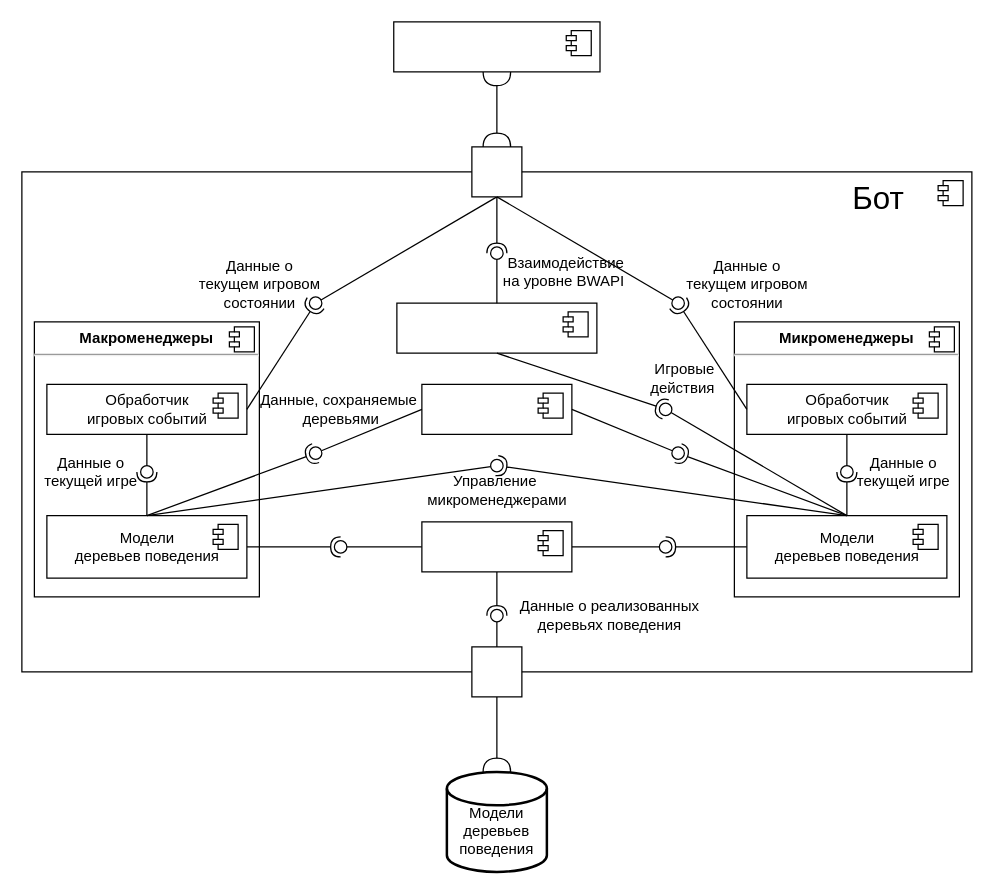
This 994x895 diagram has some shape labels left out. Each missing label, with the centre of its shape:
BW API: point 496,46
Активаторы поведения: point 496,327
Доска объявлений: point 496,408
Загрузчик моделей: point 496,546
